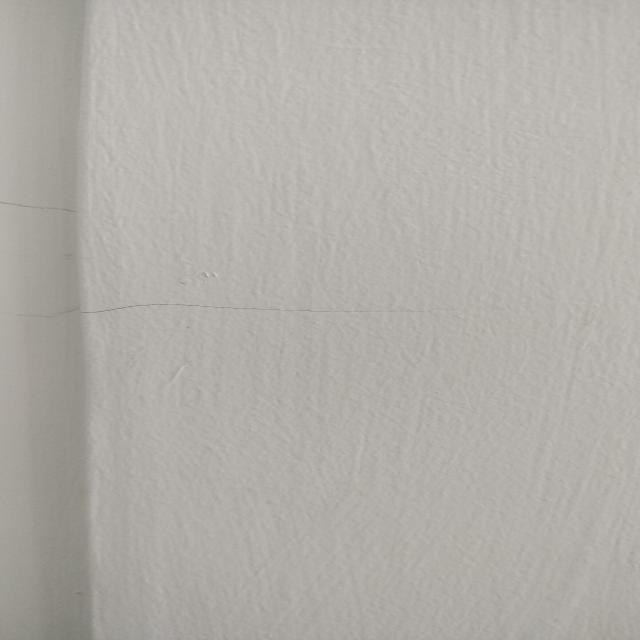Crack: (18, 300, 422, 326)
